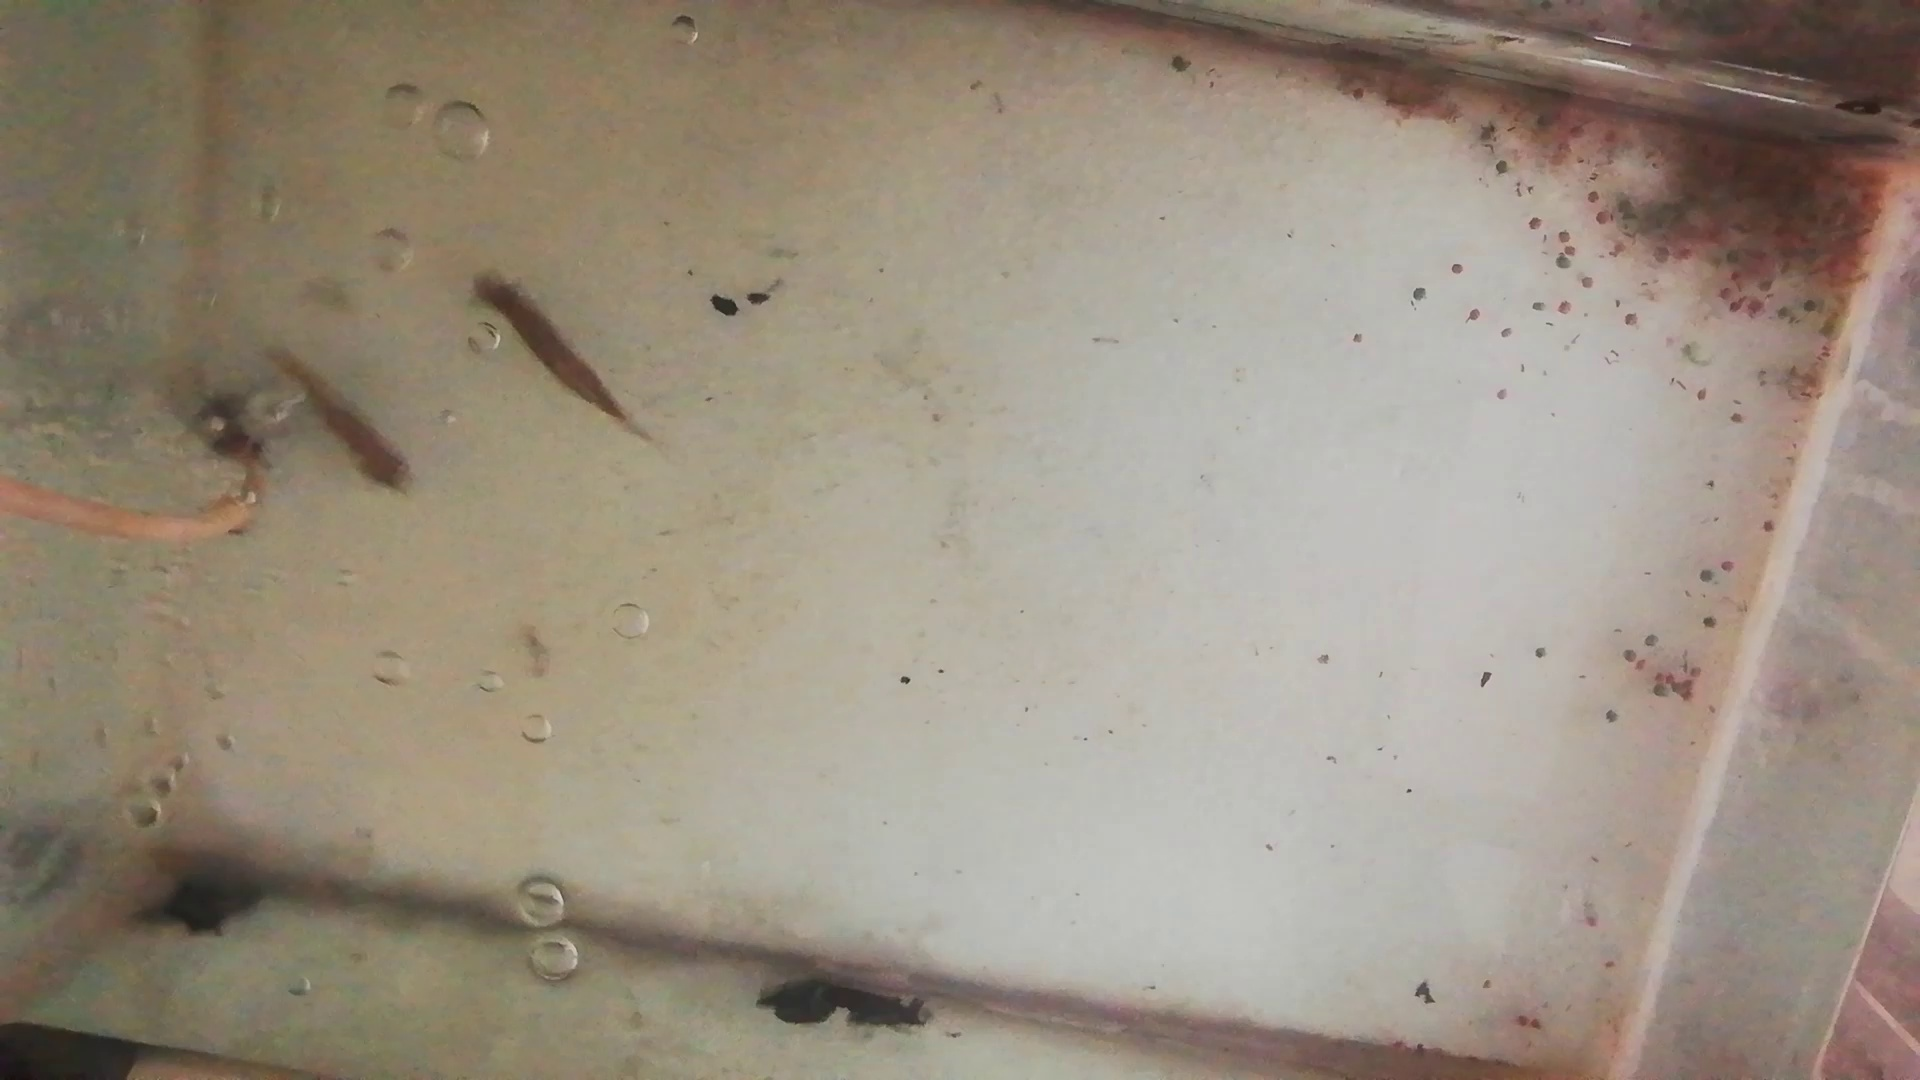fish: (469, 262, 628, 425), (262, 342, 415, 498)
